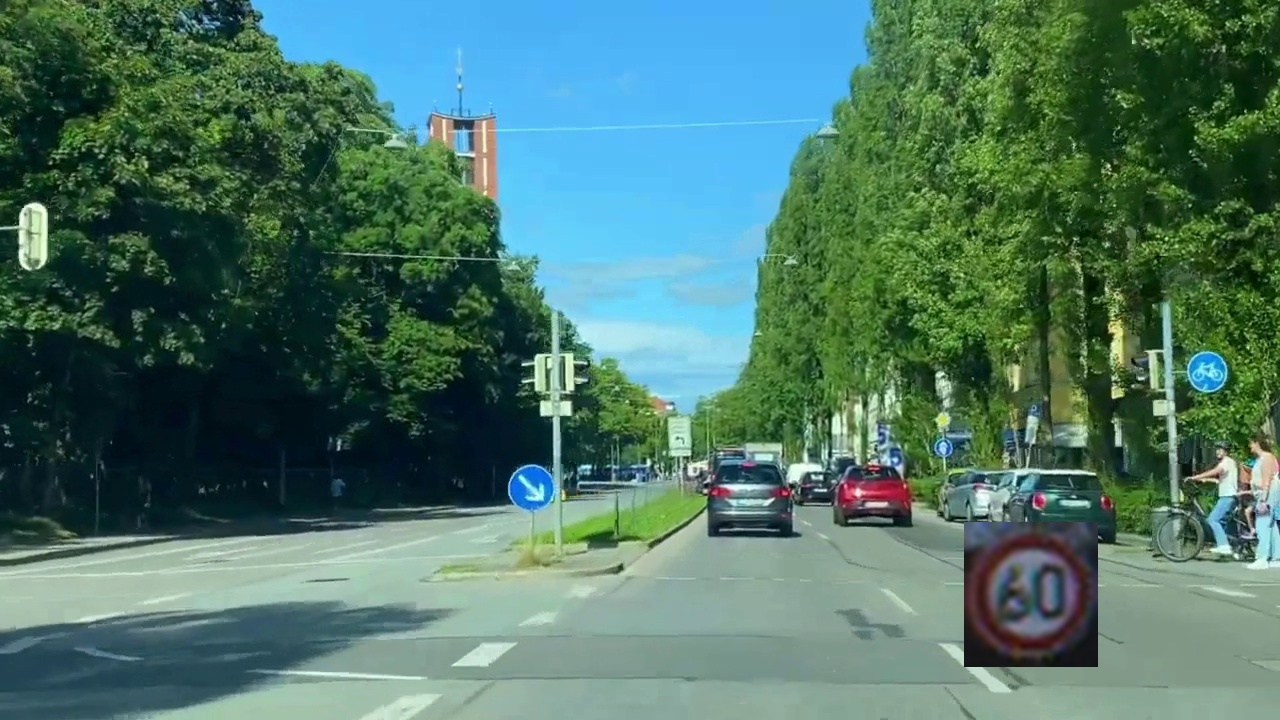Speed 60: (964, 522, 1098, 667)
